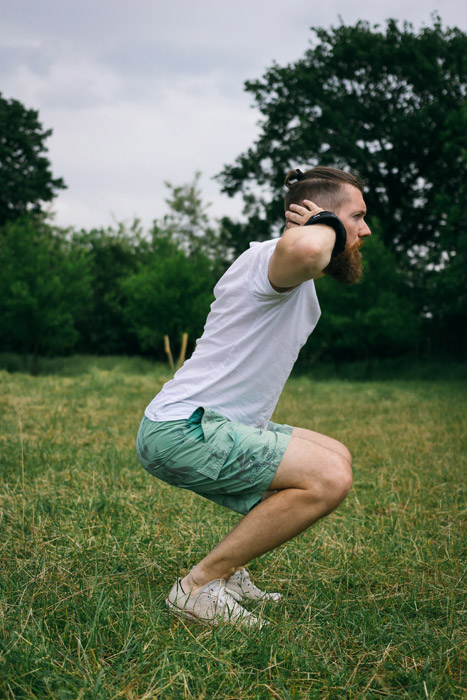male: (131, 163, 374, 631)
